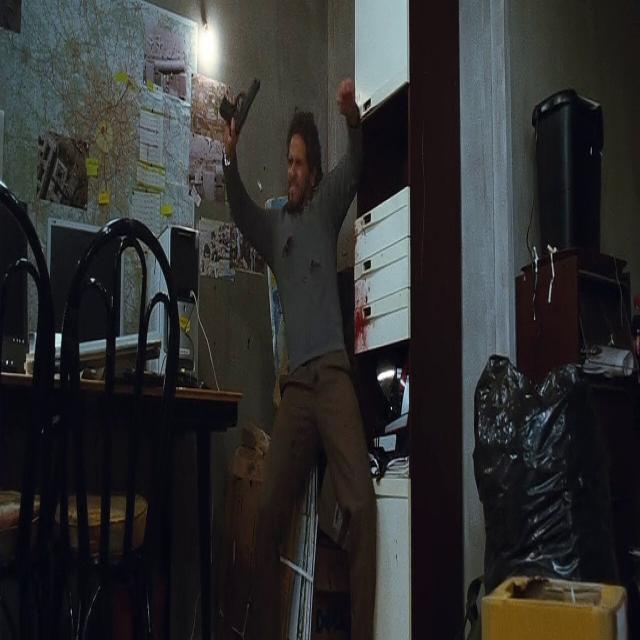gun-knife-thesis - v11 Yolov5 augmented: (218, 65, 262, 166)
